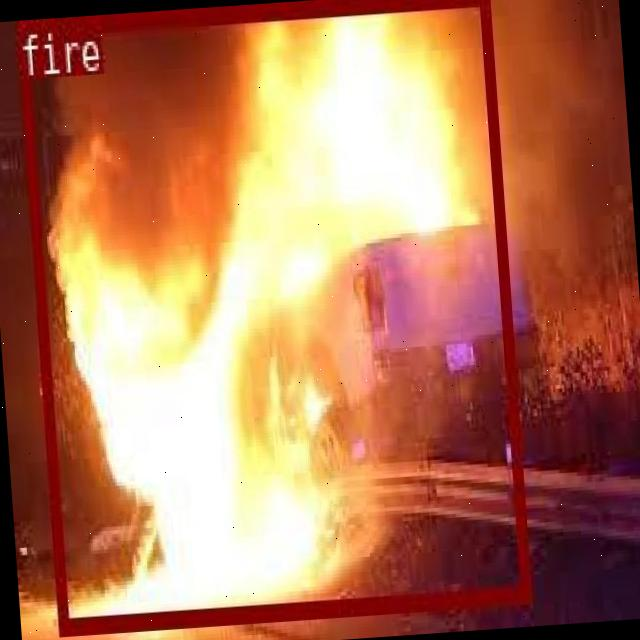fire: (15, 0, 527, 633)
